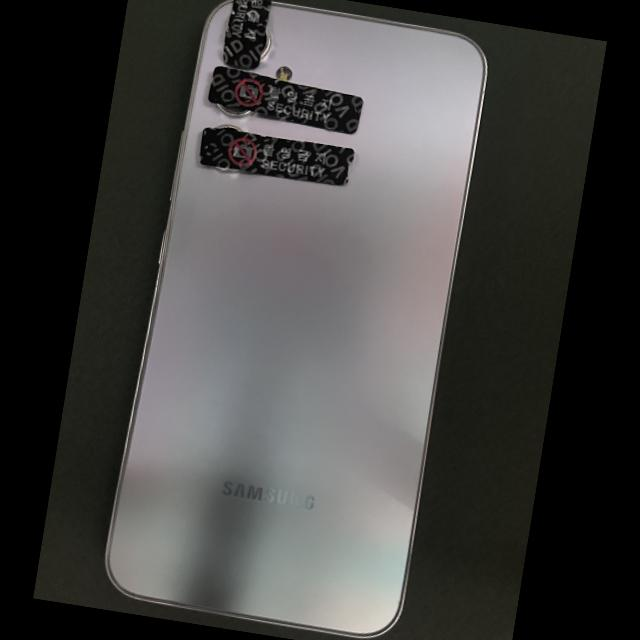lens: (218, 104, 255, 118), (261, 27, 270, 57), (214, 125, 244, 132)
phone: (106, 0, 486, 636)
sticker: (209, 66, 363, 134), (200, 128, 354, 185), (224, 0, 271, 70)
